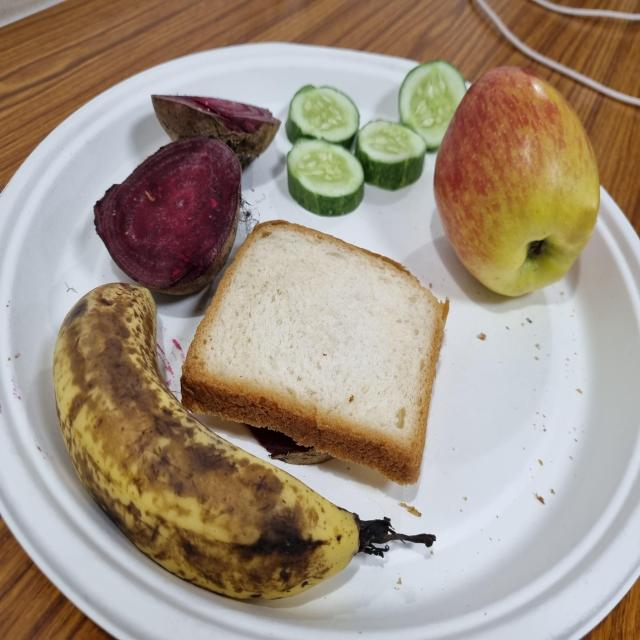apple: (433, 66, 601, 300)
banana: (52, 283, 362, 608)
cucumber: (396, 61, 471, 153), (285, 138, 364, 219), (347, 121, 429, 192), (285, 85, 362, 153)
